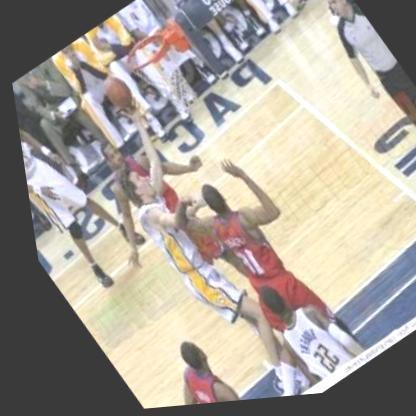basketball: (92, 69, 136, 115)
